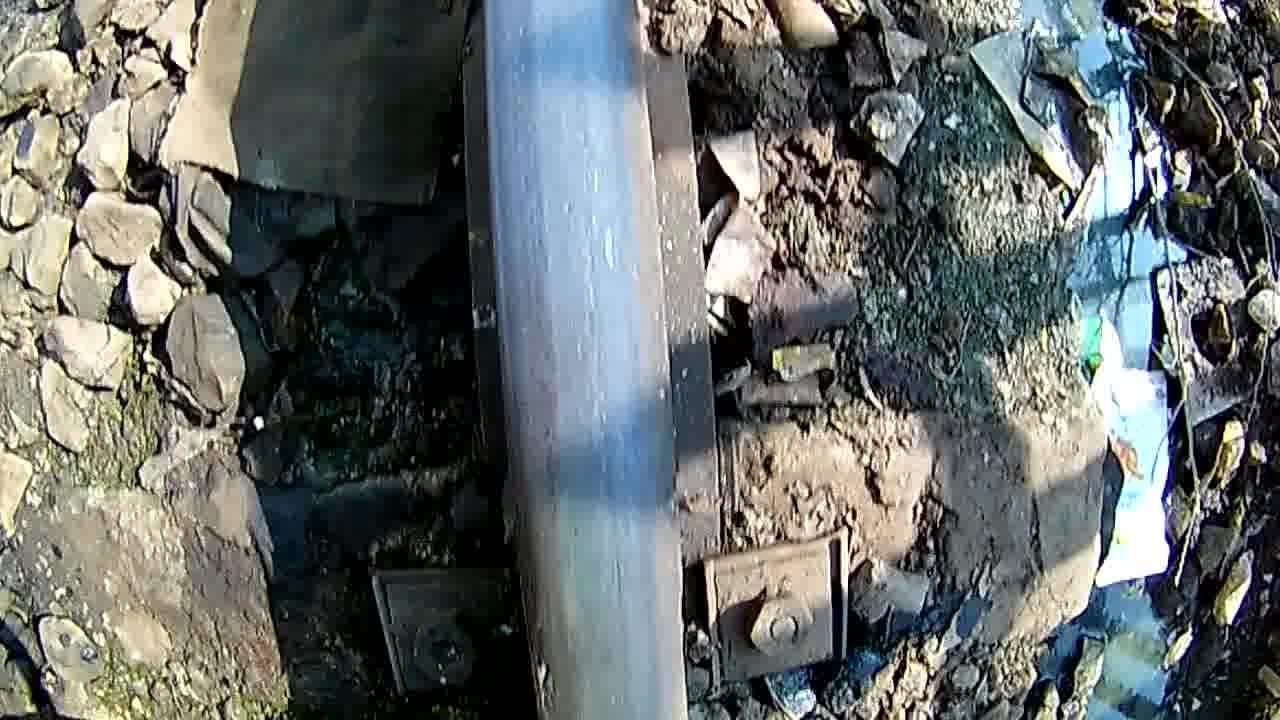crack: (482, 0, 674, 653)
